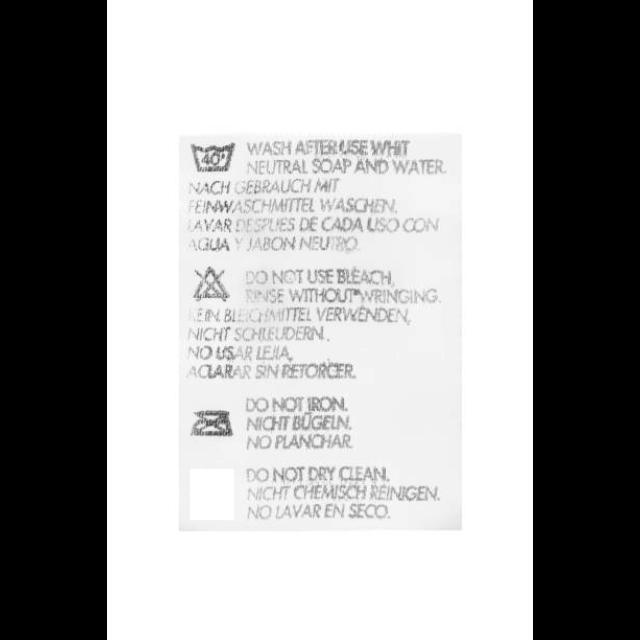40C: (185, 138, 239, 176)
DN_bleach: (188, 260, 236, 306)
DN_iron: (187, 404, 237, 444)
